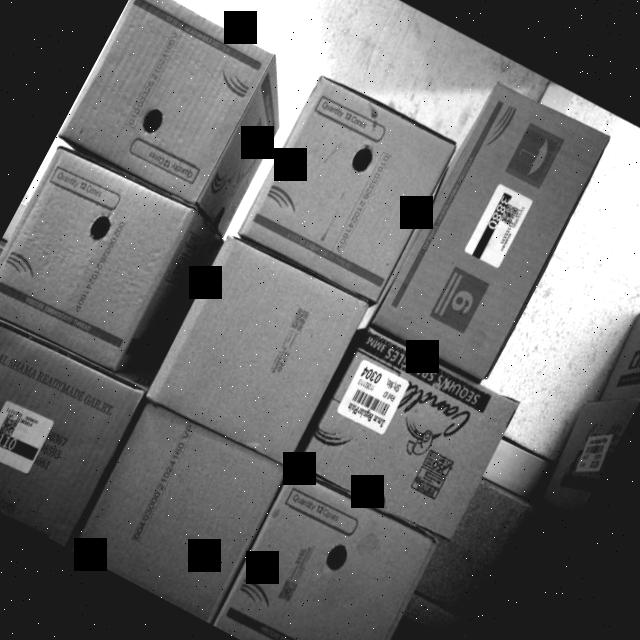box: (371, 79, 613, 378), (142, 228, 371, 468), (295, 321, 527, 548), (239, 74, 458, 303), (69, 395, 288, 621), (0, 139, 201, 382), (58, 0, 280, 207), (213, 469, 441, 640), (0, 298, 145, 545)
